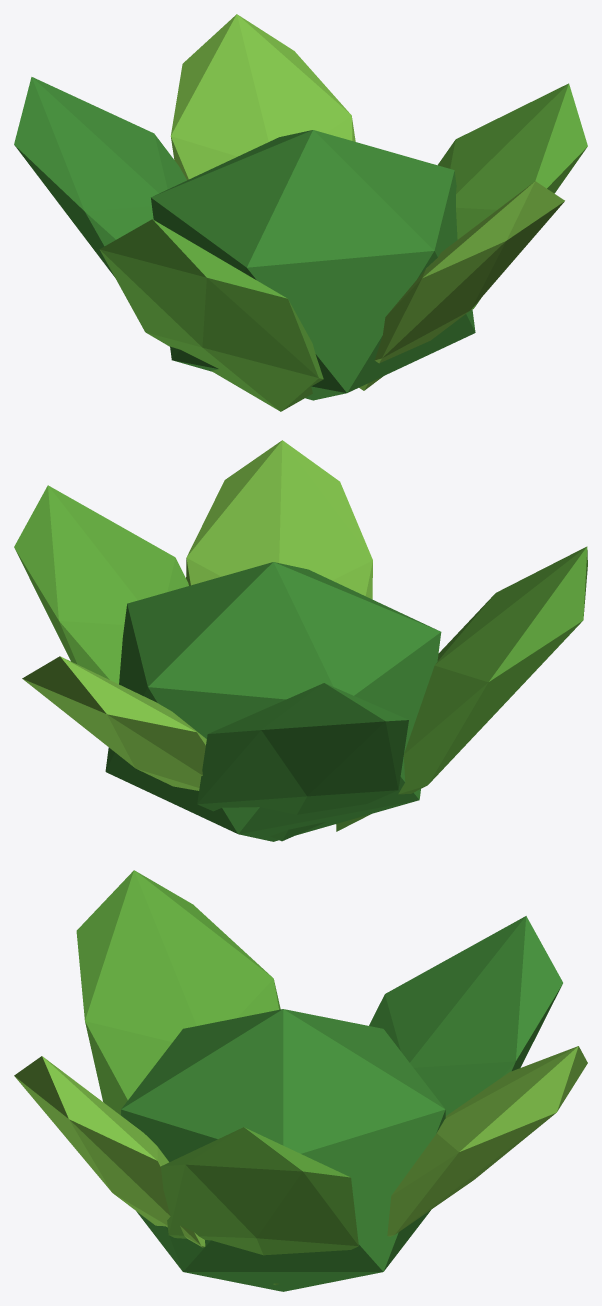
The model's file is leaf_tuft_small.glb.
3 renders of one model, top to bottom at view 1: azimuth 30°, elevation 25°; view 2: azimuth 150°, elevation 25°; view 3: azimuth 270°, elevation 25°, orthographic. The views are drawn at different scales.
Visible parts, largest first — view 1: leaf_tuft_small; view 2: leaf_tuft_small; view 3: leaf_tuft_small.
Boxes of the visible parts, x1,y1,x2,y2 form: leaf_tuft_small: [14, 14, 587, 411]; leaf_tuft_small: [14, 440, 587, 841]; leaf_tuft_small: [14, 870, 587, 1291].
Bounding box in the file's own units: 0.26 × 0.1448 × 0.2482.
